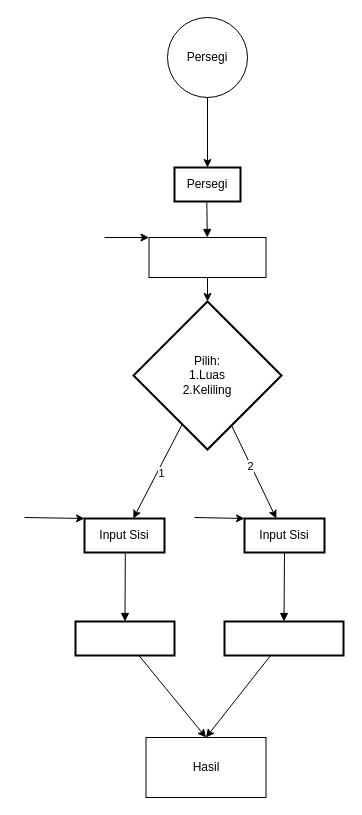
The diagram is 362 pixels wide and 815 high, and some of its shapes have lost their labels. The shapes that lost their labels are listed below. From the top down, each one's box as (x1, y1, x2, y2) in pixels, then its label:
(148, 236, 266, 278): Input pilihan_menu
(74, 620, 175, 656): sisi x sisi
(223, 620, 344, 656): sisi x 4
